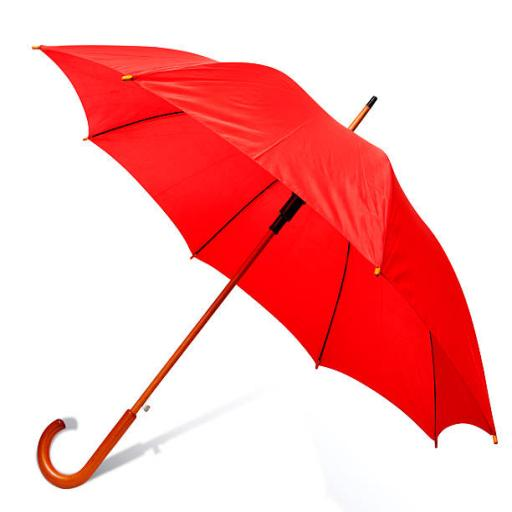guarda_chuva: (31, 42, 498, 488)
